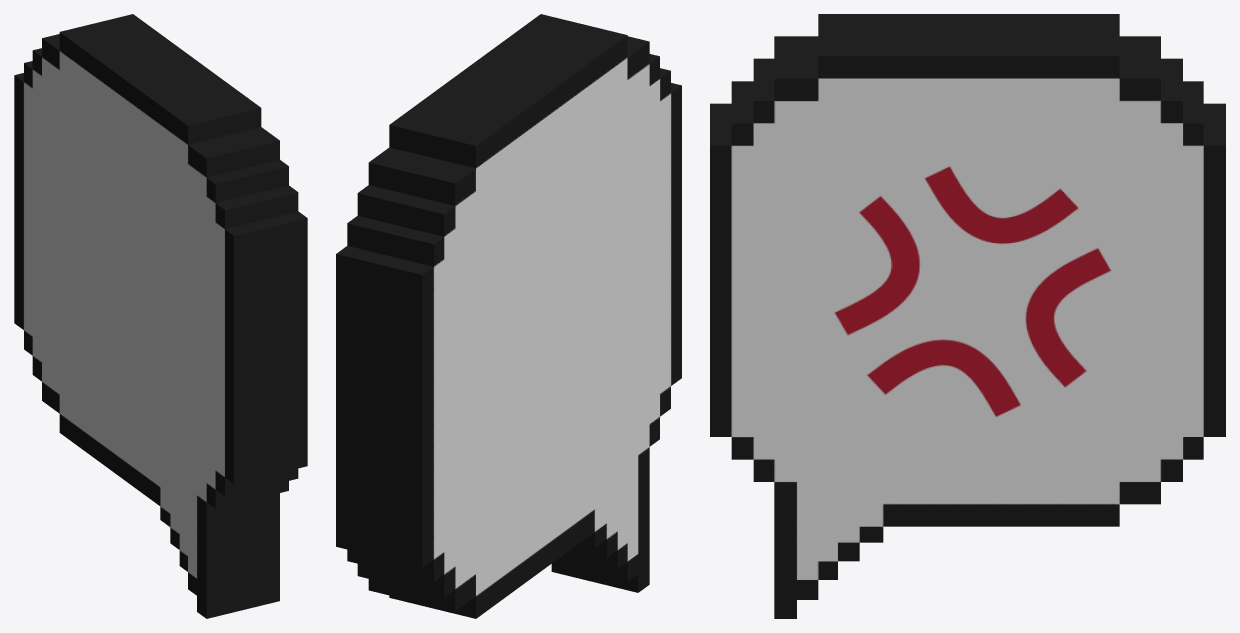
Rendered from angry_speech.glb.
3 views of the same model, side by side, from view 1: azimuth 30°, elevation 25°; view 2: azimuth 150°, elevation 25°; view 3: azimuth 270°, elevation 25° (orthographic). The views are drawn at different scales.
Visible parts, largest first — view 1: Pixel_Speech_Bubbles_v4_001; view 2: Pixel_Speech_Bubbles_v4_001; view 3: Pixel_Speech_Bubbles_v4_001.
Part boxes in pixels (bbox=[...]): Pixel_Speech_Bubbles_v4_001: bbox=[14, 14, 307, 618]; Pixel_Speech_Bubbles_v4_001: bbox=[336, 14, 681, 618]; Pixel_Speech_Bubbles_v4_001: bbox=[710, 14, 1225, 618].
Bounding box in the file's own units: 0.00854 × 0.0532 × 0.0442.
Materials: 1 (1 with a texture image).
